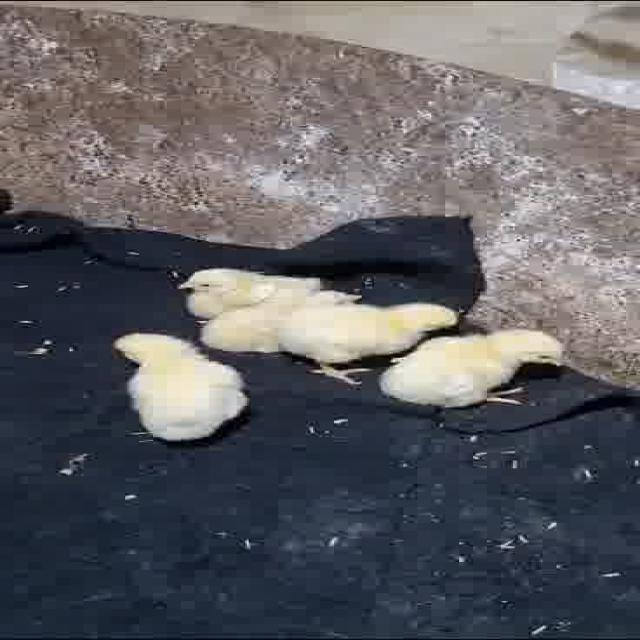poussin: (374, 328, 574, 406), (110, 332, 248, 439), (278, 306, 462, 378), (200, 292, 360, 346), (172, 265, 321, 315)
